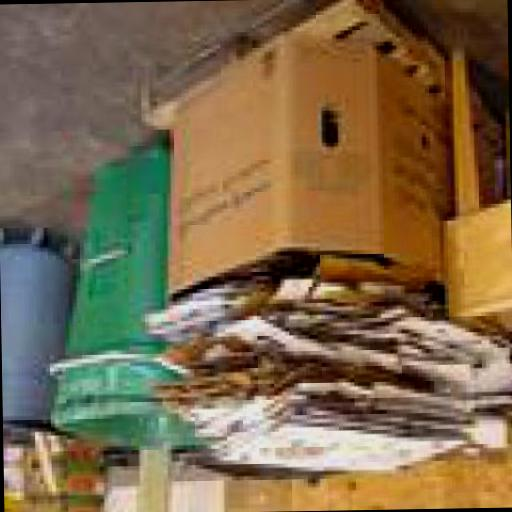cardboard: (160, 28, 449, 306), (144, 272, 512, 482), (153, 308, 506, 382), (174, 396, 468, 478), (158, 354, 507, 418)
